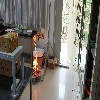fire: (32, 34, 39, 75)
